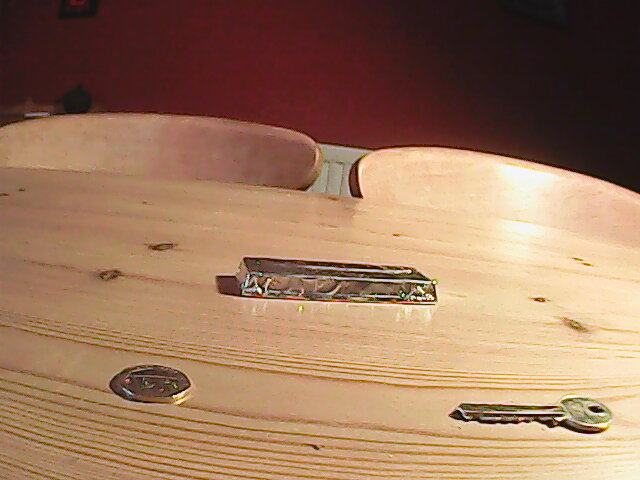Coin: (114, 361, 190, 403)
Foil: (231, 253, 442, 311)
Key: (449, 393, 614, 438)
